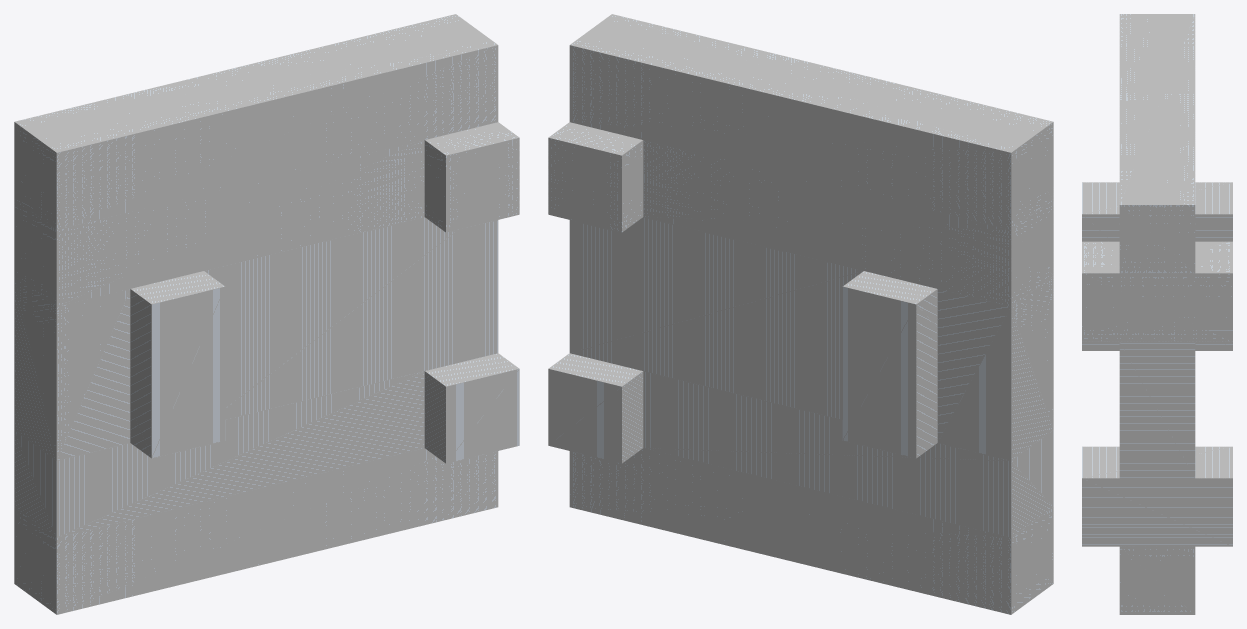
The model's file is stone-gate.fbx.
3 renders of one model, left to right at view 1: azimuth 30°, elevation 25°; view 2: azimuth 150°, elevation 25°; view 3: azimuth 270°, elevation 25°, orthographic. The views are drawn at different scales.
Visible parts, largest first — view 1: generated; view 2: generated; view 3: generated.
Boxes of the visible parts, left/top/right/bottom form: generated: left=14, top=14, right=519, bottom=614; generated: left=548, top=14, right=1053, bottom=614; generated: left=1082, top=14, right=1232, bottom=614.
Bounding box in the file's own units: 60 × 60 × 20.
1 material, 1 textured.
